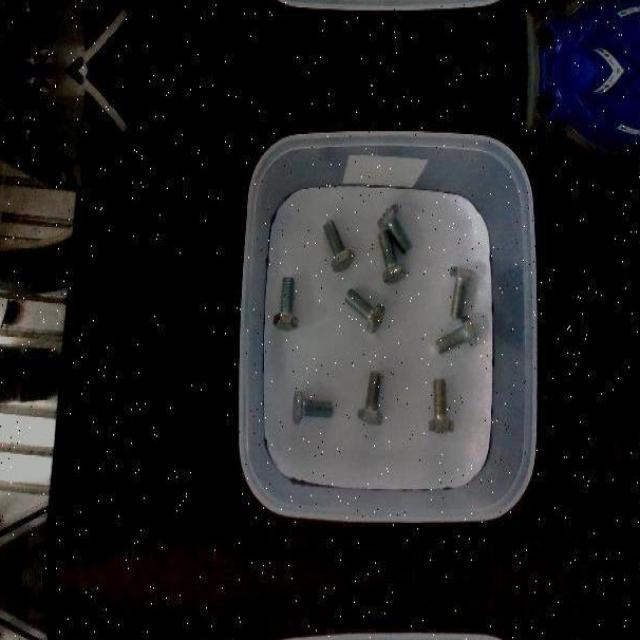screw: (376, 203, 412, 255), (344, 287, 384, 332), (435, 315, 479, 354), (323, 219, 355, 272), (378, 229, 406, 284), (428, 376, 455, 432), (292, 389, 334, 424), (449, 265, 475, 320), (271, 276, 297, 330), (357, 371, 382, 424)
